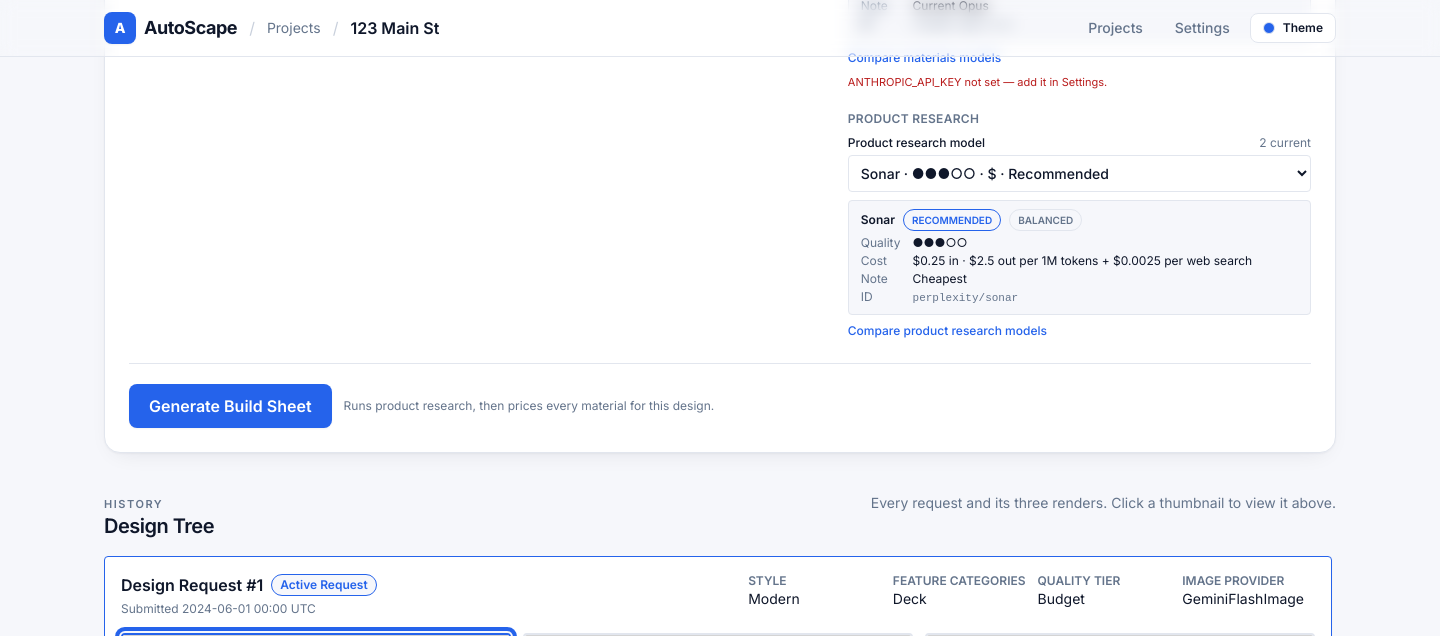
Test case: ProjectDetailPage — Build Sheet display › shows materials table with all required columns
(page scrolled)
Step 1. Click the button "Generate Build Sheet" → (230, 406), box [129,384,332,428]
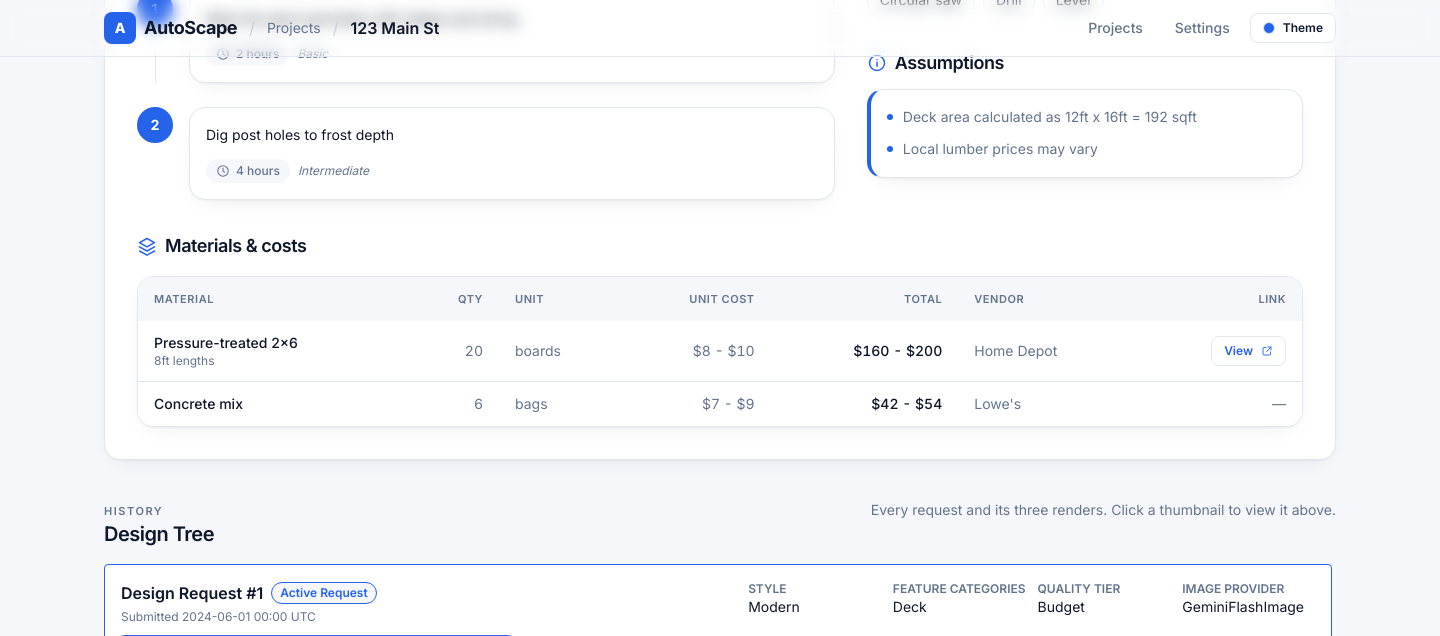
Expected: the column heading "Qty" is shown, [411,277,499,321]
Expected: the column heading "Unit" is shown, [499,277,620,321]
Expected: the column heading "Unit cost" is shown, [620,277,771,321]
